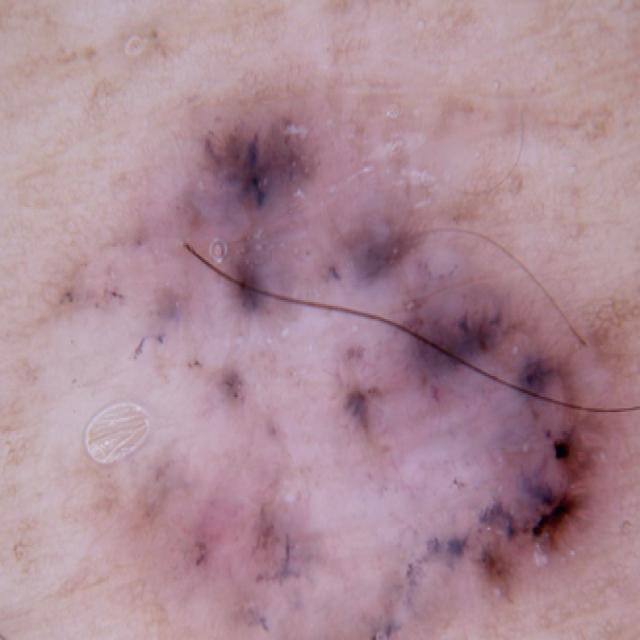Carcinoma: (82, 91, 586, 640)
